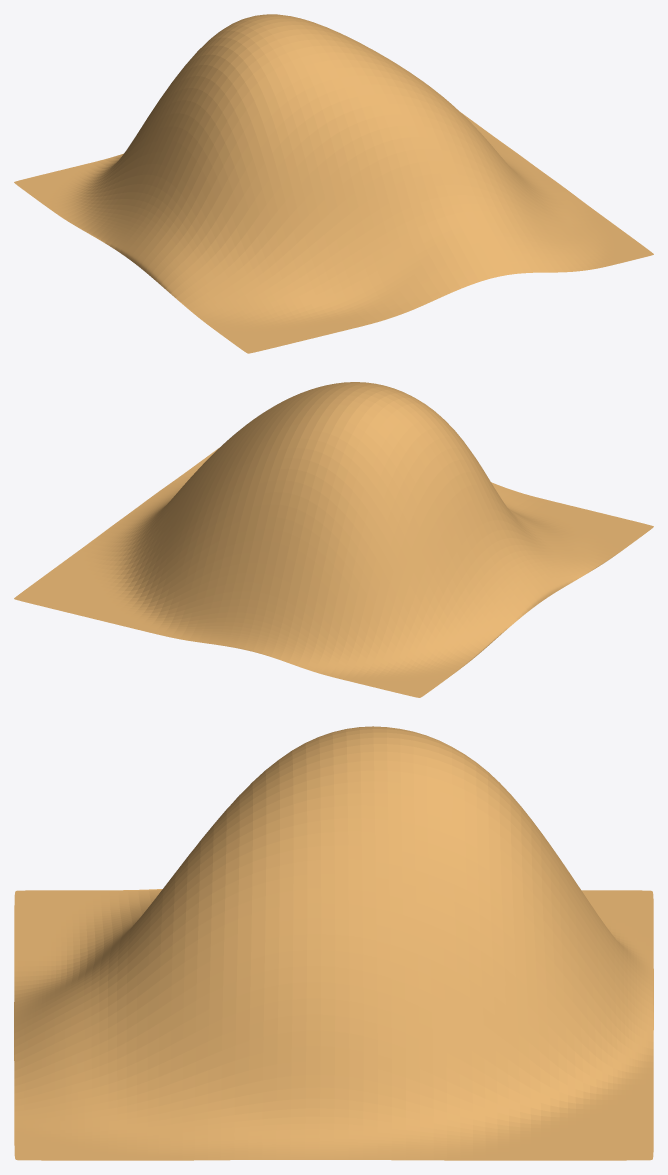
The model's file is Arena001.fbx.
The picture shows the model from 3 angles, top to bottom: view 1: azimuth 30°, elevation 25°; view 2: azimuth 150°, elevation 25°; view 3: azimuth 270°, elevation 25°; orthographic projection. The views are drawn at different scales.
Visible parts, largest first — view 1: Plane.001; view 2: Plane.001; view 3: Plane.001.
Boxes of the visible parts, x1=… form: Plane.001: x1=14, y1=14, x2=653, y2=353; Plane.001: x1=14, y1=382, x2=653, y2=697; Plane.001: x1=14, y1=726, x2=653, y2=1160.
Bounding box in the file's own units: 318 × 142 × 318.
